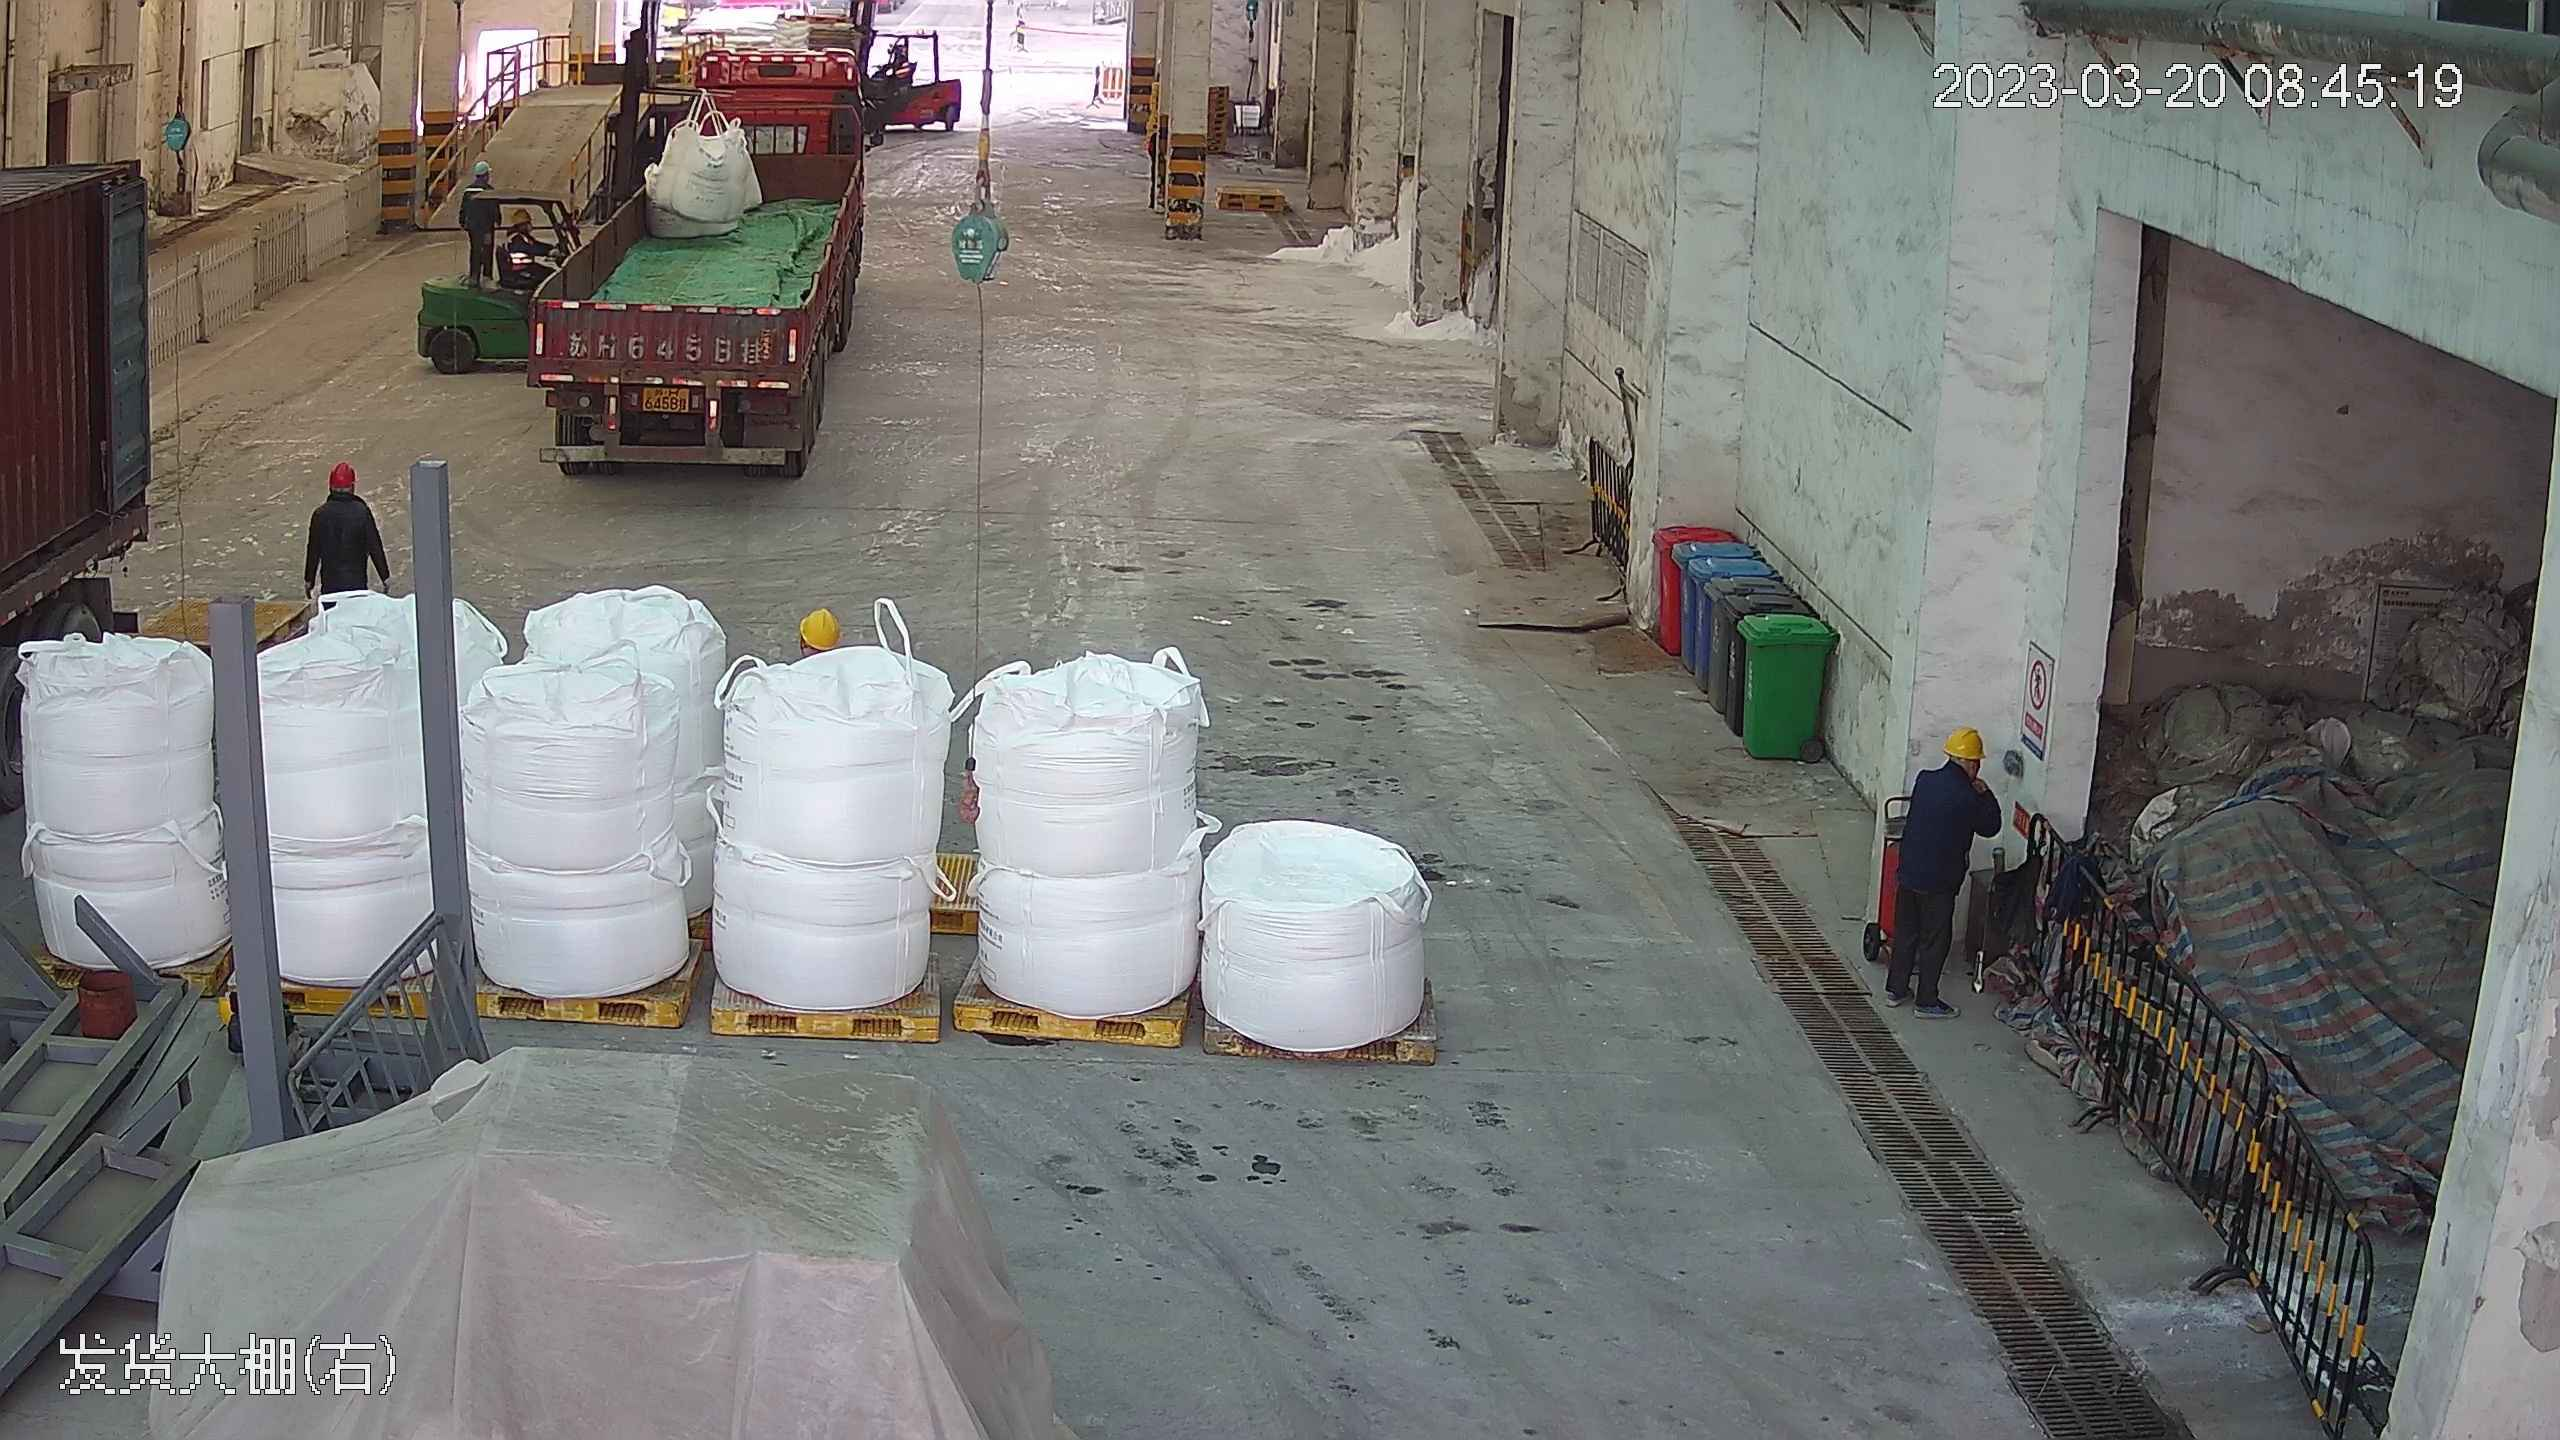head: (1910, 723, 2001, 817), (312, 457, 377, 529), (498, 204, 547, 261), (456, 160, 495, 201)
helmet: (797, 603, 842, 649), (1942, 723, 1991, 763), (323, 458, 358, 485), (505, 205, 536, 228), (473, 159, 491, 177)
people: (1879, 719, 2009, 1017), (302, 453, 390, 597), (453, 156, 501, 276)
truck: (521, 14, 876, 485)
